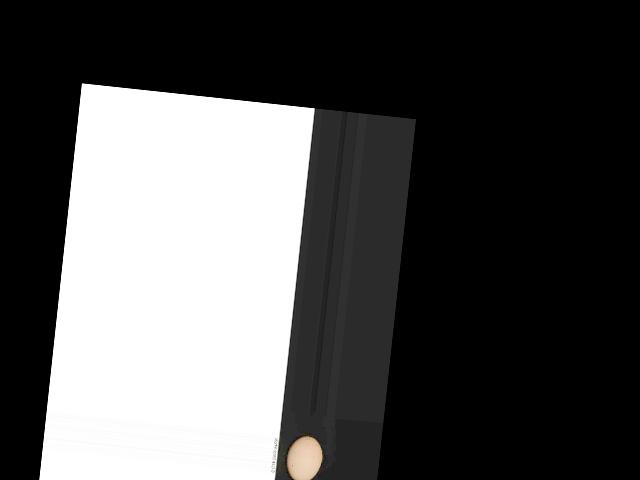egg: (284, 434, 323, 480)
